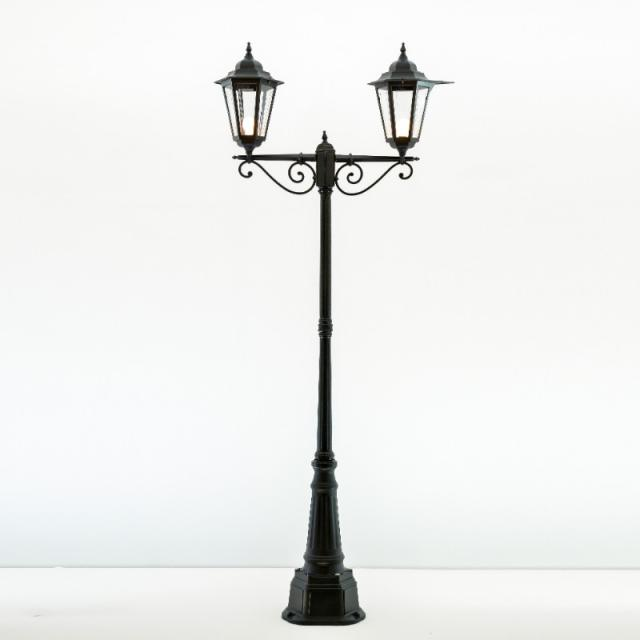Street Light: (215, 42, 456, 628)
